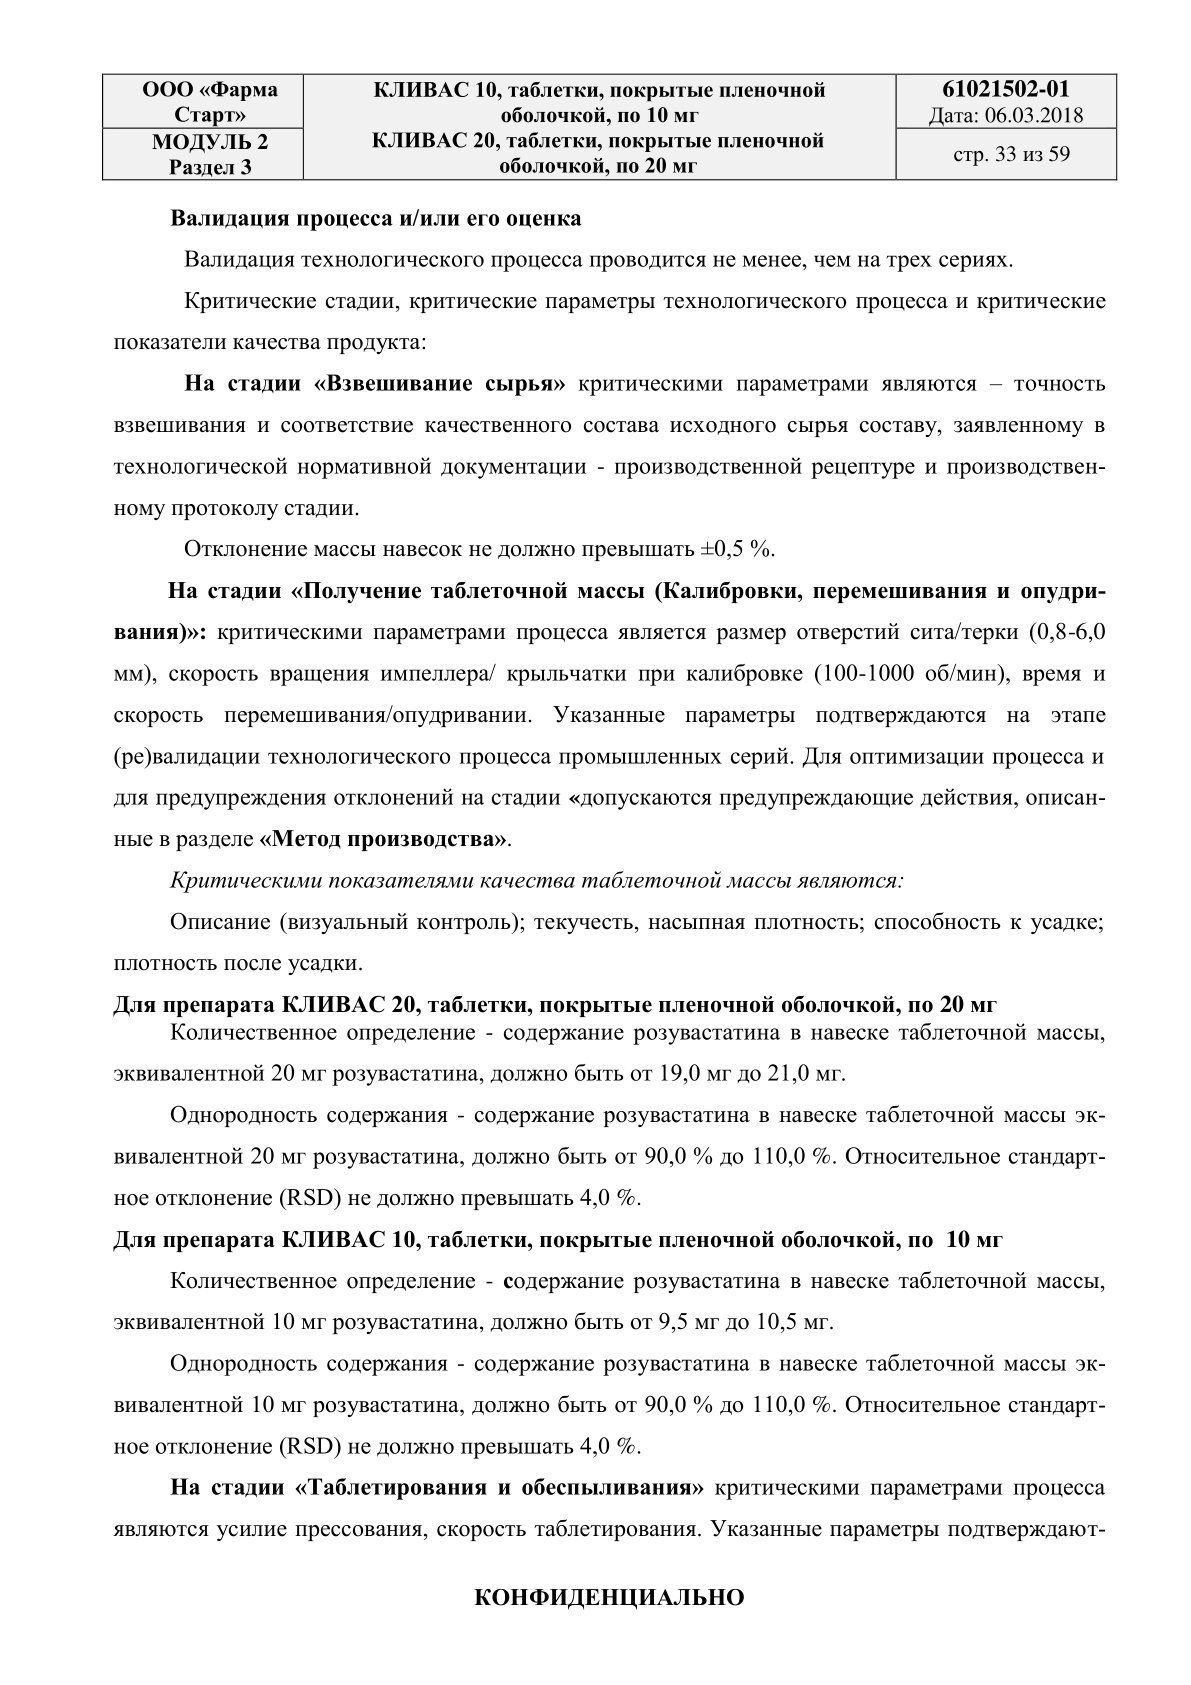merged_cells: (101, 72, 1118, 180)
